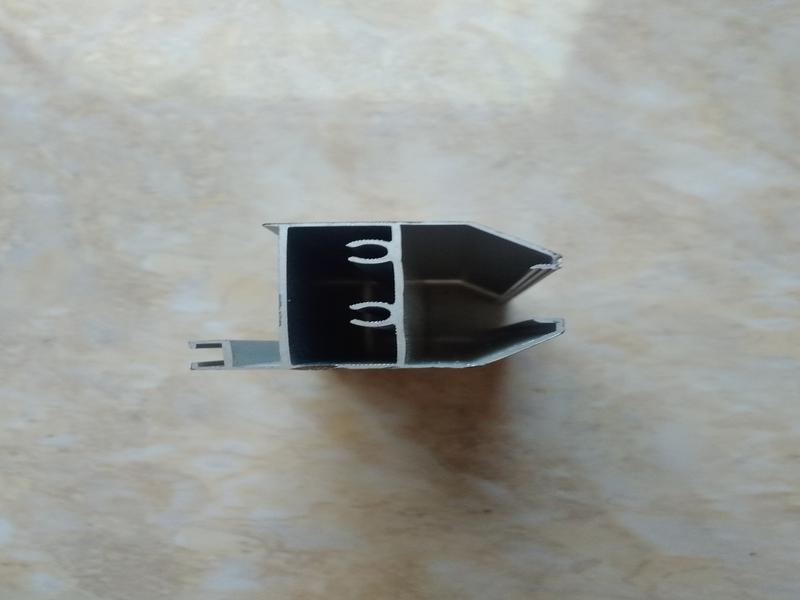Aluminium_3: (170, 193, 610, 415)
